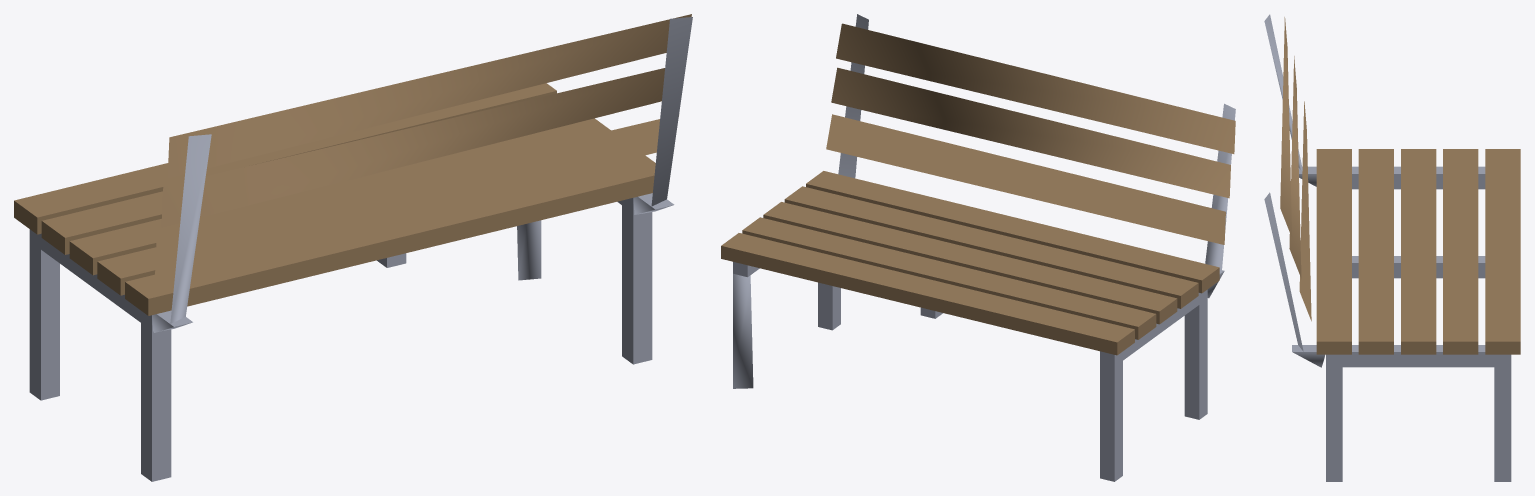
The model's file is bench(joined)_LOD1.fbx.
3 renders of one model, left to right at view 1: azimuth 30°, elevation 25°; view 2: azimuth 150°, elevation 25°; view 3: azimuth 270°, elevation 25°, orthographic. The views are drawn at different scales.
Visible parts, largest first — view 1: Cube.002; view 2: Cube.002; view 3: Cube.002.
Part boxes in pixels (<box>): Cube.002: <box>14,14,692,481</box>; Cube.002: <box>721,14,1235,481</box>; Cube.002: <box>1264,14,1520,481</box>.
Size of the model in its own units: 540 by 370 by 304.
